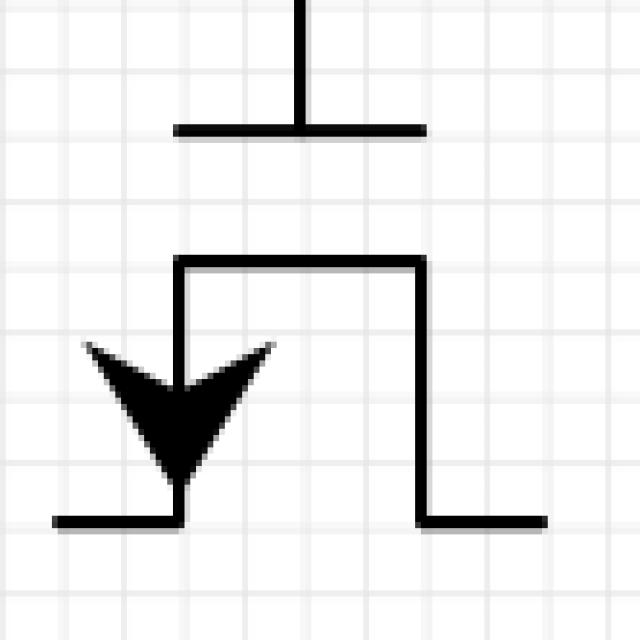nmos: (26, 24, 594, 583)
